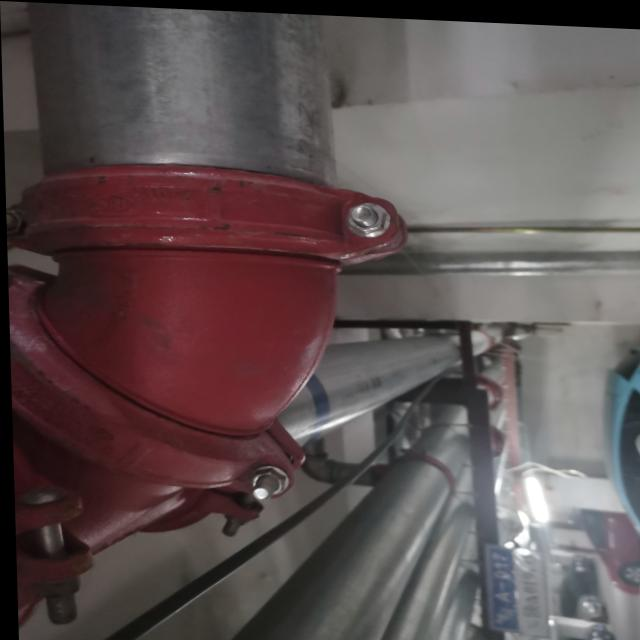Regular bolt: (345, 200, 390, 232), (250, 464, 286, 498)
